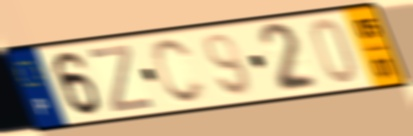0: (309, 16, 362, 88)
2: (257, 21, 322, 98)
6: (51, 49, 104, 118)
9: (202, 32, 254, 99)
C: (149, 36, 209, 106)
Z: (85, 42, 156, 115)
